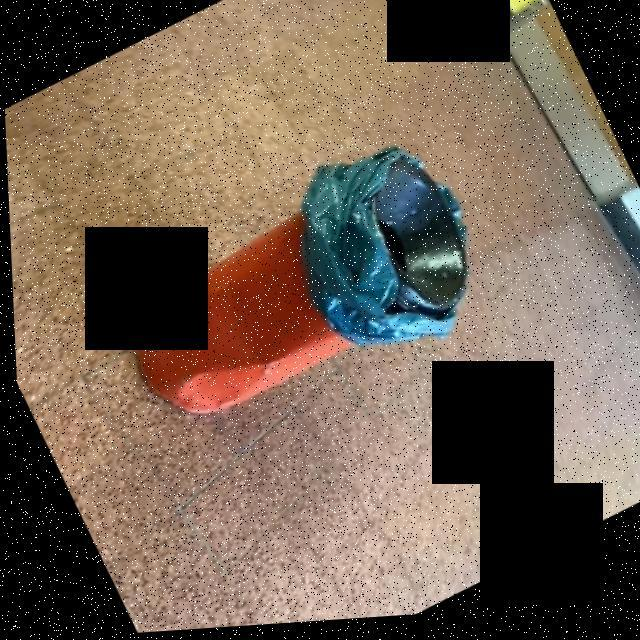bin: (6, 56, 563, 512)
